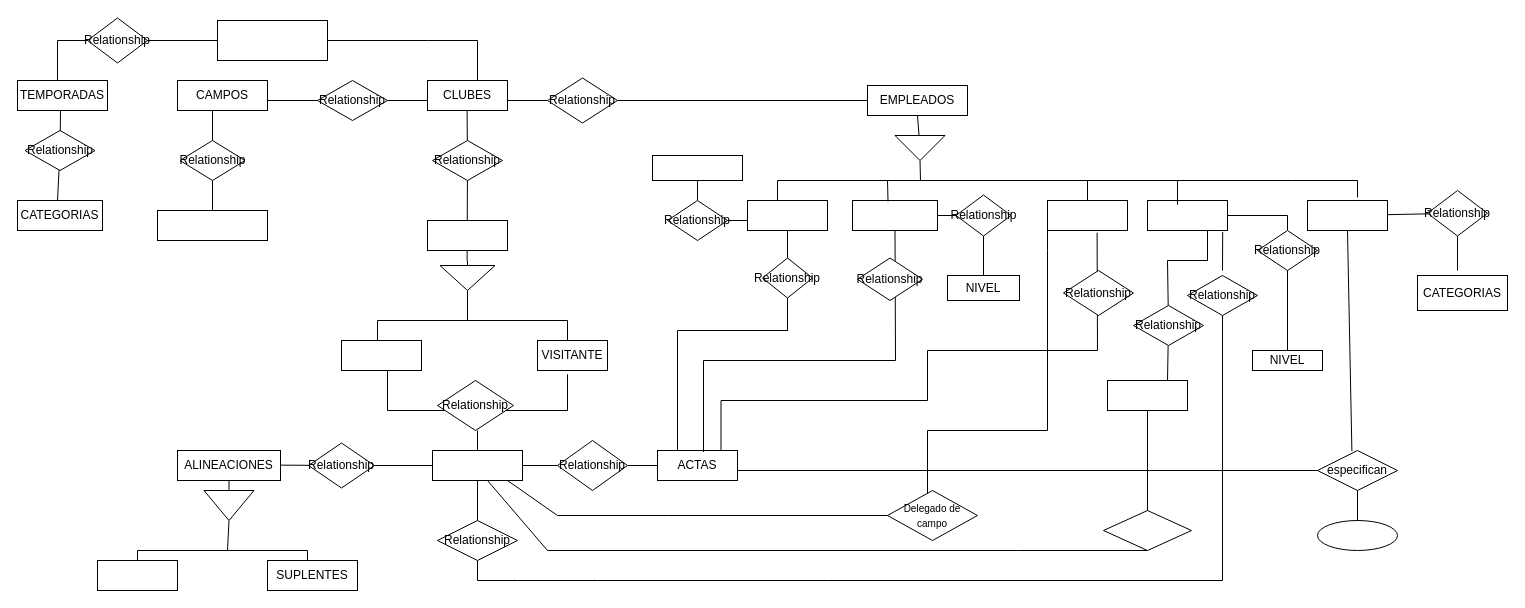
The diagram is 1525 pixels wide and 608 high, and some of its shapes have lost their labels. Here are the shapes that lost their labels. From the top down, the box of each, then its label:
(216, 20, 328, 60): COMPETICIONES
(652, 154, 742, 180): ESPECIALIDAD
(156, 210, 268, 240): HOMOLOGACION
(426, 220, 508, 250): EQUIPOS
(746, 200, 828, 230): FISIOS
(852, 200, 938, 230): ENTRENADORES
(1046, 200, 1128, 230): DELEGADOS
(1146, 200, 1228, 230): ARBITROS
(1306, 200, 1388, 230): JUGADORES
(340, 340, 422, 370): LOCAL
(1106, 380, 1188, 410): EVALUADOR
(432, 450, 522, 480): PARTIDOS
(1102, 510, 1192, 550): Pueden haber
(1316, 520, 1398, 550): Dorsal
(96, 560, 178, 590): TITULARES
